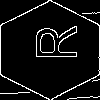R: (25, 25, 77, 61)
